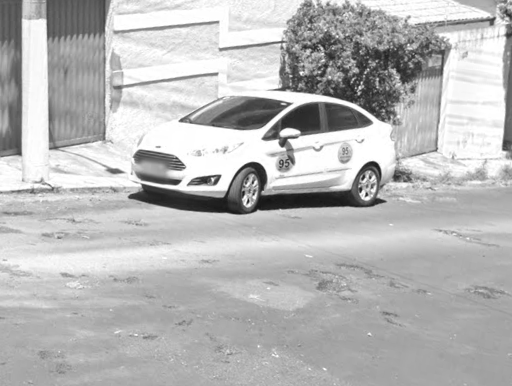car: (129, 87, 403, 223)
